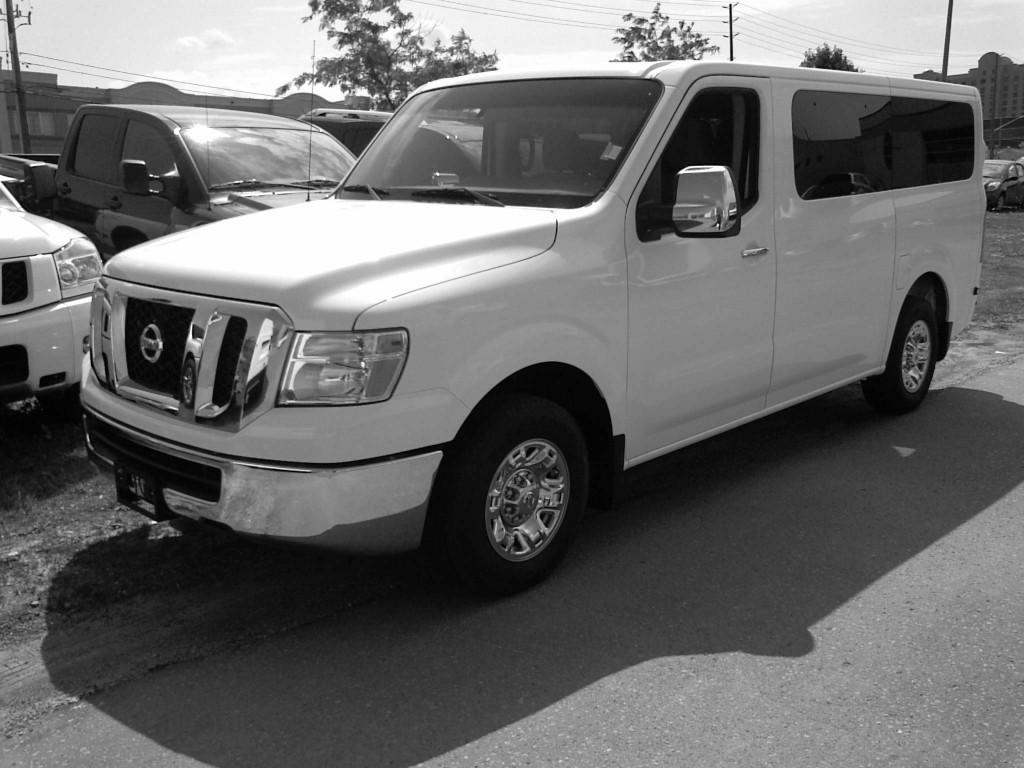car: (62, 41, 1005, 631)
